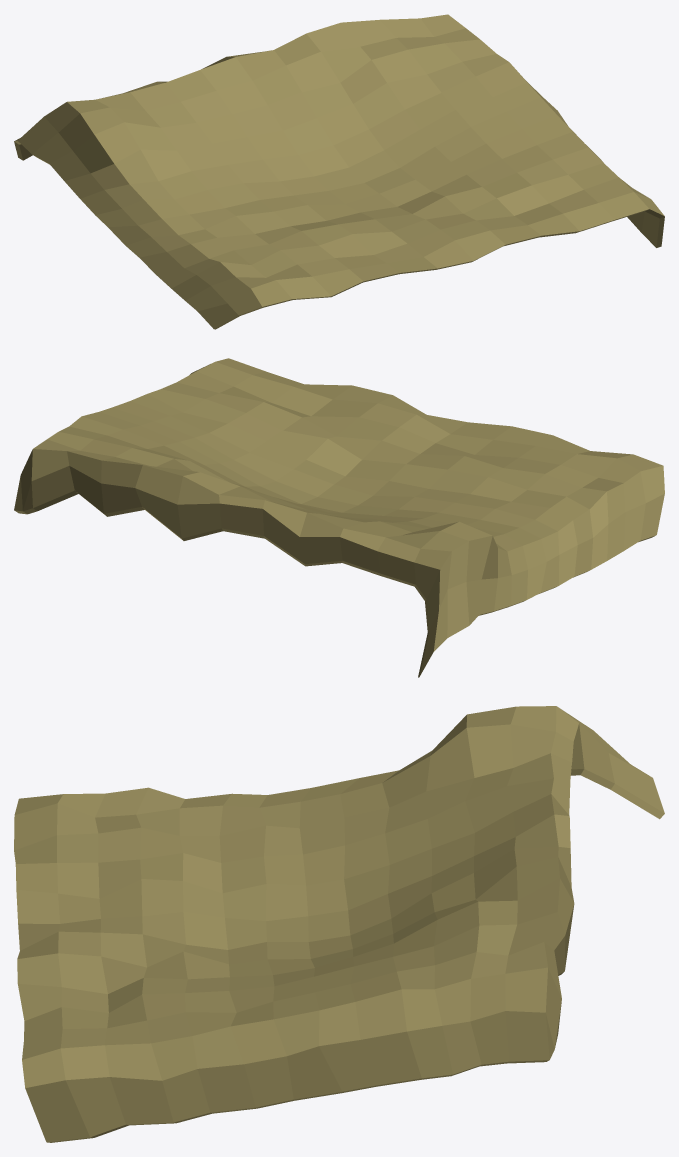
Rendered from TD_Model_VendorRoof_GoodNormals.fbx.
3 renders of one model, top to bottom at view 1: azimuth 30°, elevation 25°; view 2: azimuth 150°, elevation 25°; view 3: azimuth 270°, elevation 25°, orthographic. The views are drawn at different scales.
Visible parts, largest first — view 1: VendorStandTop.001; view 2: VendorStandTop.001; view 3: VendorStandTop.001.
Boxes of the visible parts, <box> form: VendorStandTop.001: <box>14,14,664,329</box>; VendorStandTop.001: <box>14,358,664,677</box>; VendorStandTop.001: <box>14,706,664,1142</box>.
Size of the model in its own units: 442 by 120 by 408.
